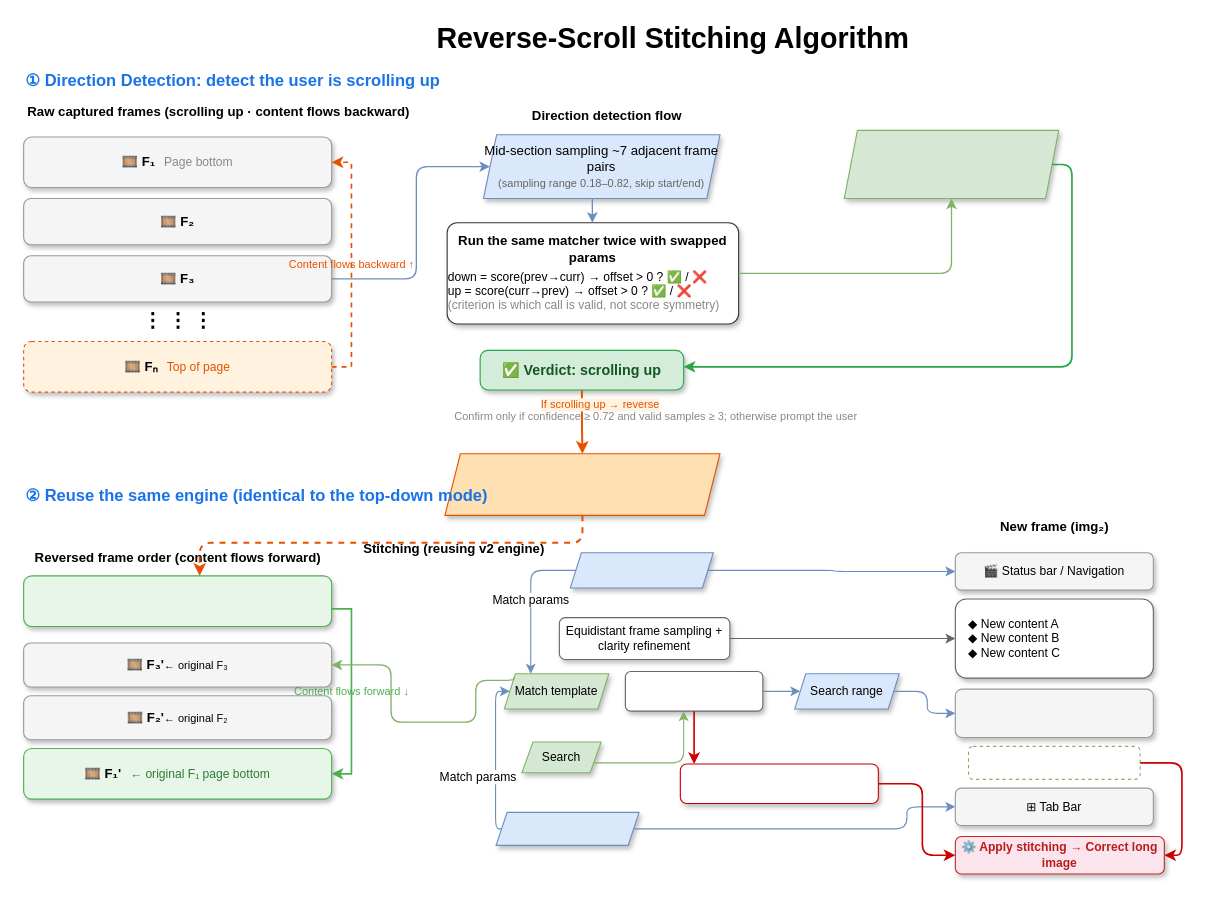
Some shapes in this 1211 by 901 pixel diagram are drawn without their labels. The shapes that lost their labels are listed below. From the top down, each one's centre as x and y in pixels, then its label:
At (x=952, y=165): "Vote decision upVotes ≥ downVotes + 2 and upScore ≥ downScore × 1.25".
At (x=583, y=485): "🔄 reversedForStitching() reverse order + re-number".
At (x=642, y=571): "headerIgnore".
At (x=178, y=602): "🎞️ Fₙ' ← original Fₙ page top".
At (x=694, y=692): "🔍 Search & Register".
At (x=1055, y=714): "Old content ...".
At (x=1053, y=762): "Found here! ✅".
At (x=780, y=784): "🔍 Registered offset (offset)".
At (x=568, y=830): "footerIgnore".
